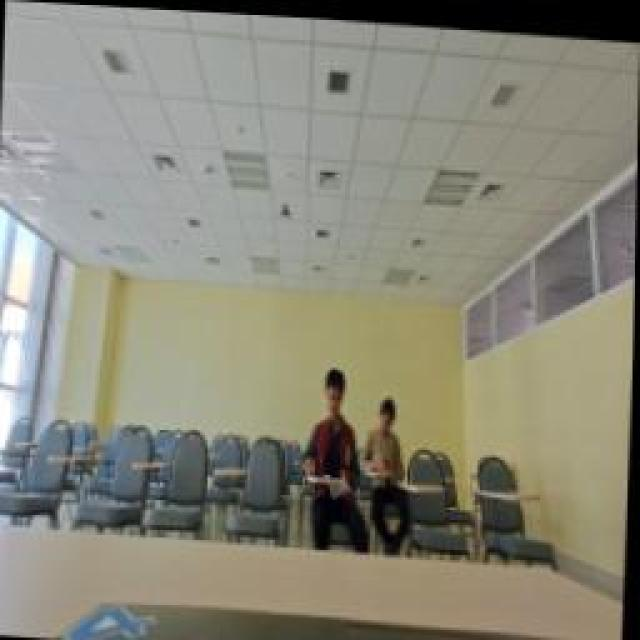study: (303, 363, 365, 485), (362, 390, 412, 475)
